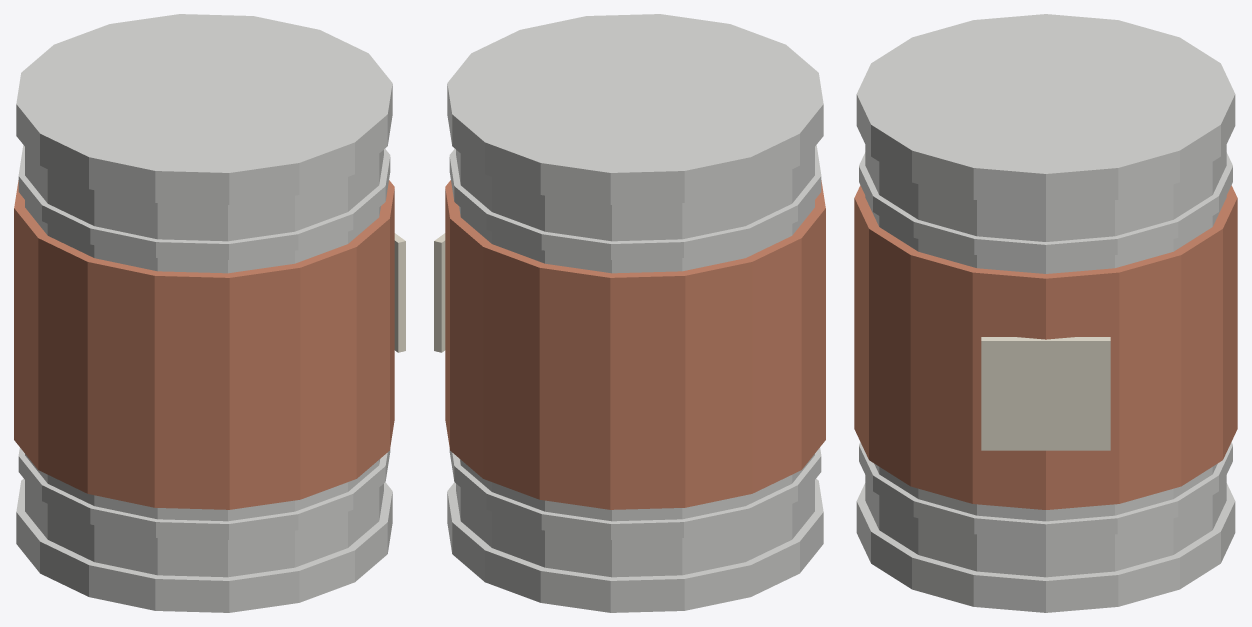
Rendered from food_beans.glb.
3 renders of one model, left to right at view 1: azimuth 30°, elevation 25°; view 2: azimuth 150°, elevation 25°; view 3: azimuth 270°, elevation 25°, orthographic.
Parts seen in each view (by area): view 1: Tin; view 2: Tin; view 3: Tin.
Boxes of the visible parts, x1,y1,x2,y2 form: Tin: [14, 14, 405, 612]; Tin: [434, 14, 825, 612]; Tin: [854, 14, 1237, 612].
Bounding box in the file's own units: 0.0877 × 0.11 × 0.087.
